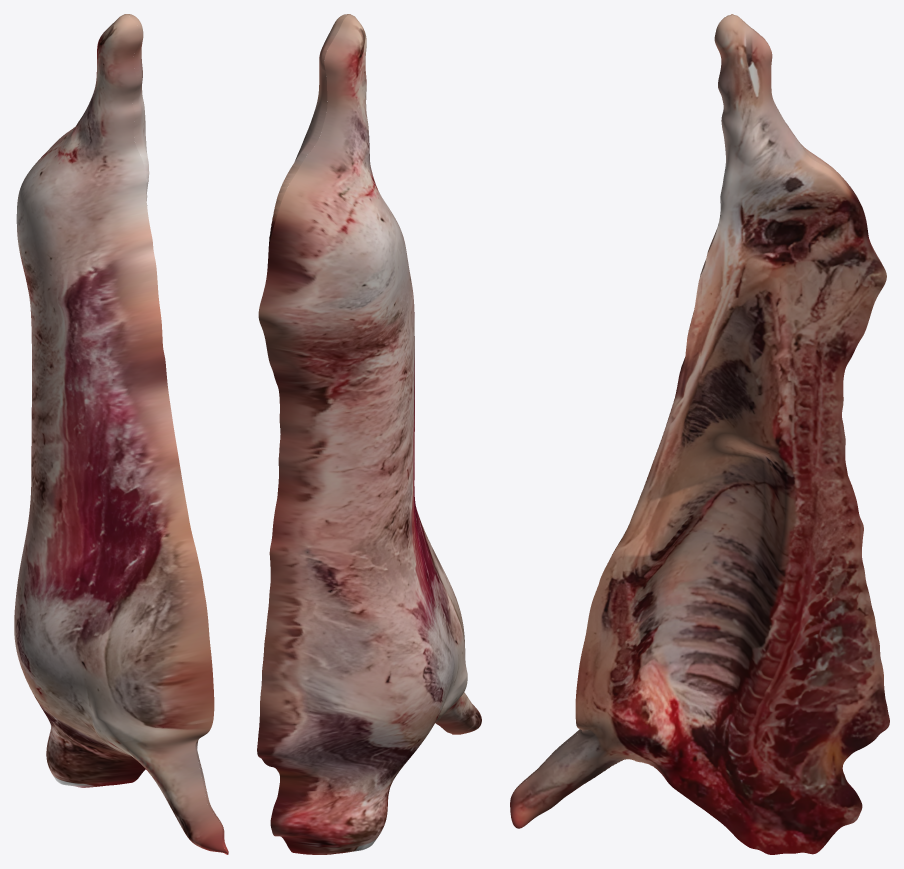
File: demi_carcasse_boeuf_v15.glb
3 views of the same model, side by side, from view 1: azimuth 30°, elevation 25°; view 2: azimuth 150°, elevation 25°; view 3: azimuth 270°, elevation 25° (orthographic). The views are drawn at different scales.
Visible parts, largest first — view 1: face_exterieure, face_de_fente; view 2: face_exterieure, face_de_fente; view 3: face_de_fente, face_exterieure.
Boxes of the visible parts, box(x1,y1,x2,y2) form: face_exterieure: box(14, 14, 228, 854); face_de_fente: box(126, 14, 228, 853); face_exterieure: box(257, 14, 481, 854); face_de_fente: box(268, 14, 452, 734); face_de_fente: box(510, 15, 889, 854); face_exterieure: box(513, 14, 882, 792).
Bounding box in the file's own units: 0.4163 × 2.5 × 1.03.
Materials: 2 (2 with a texture image).
